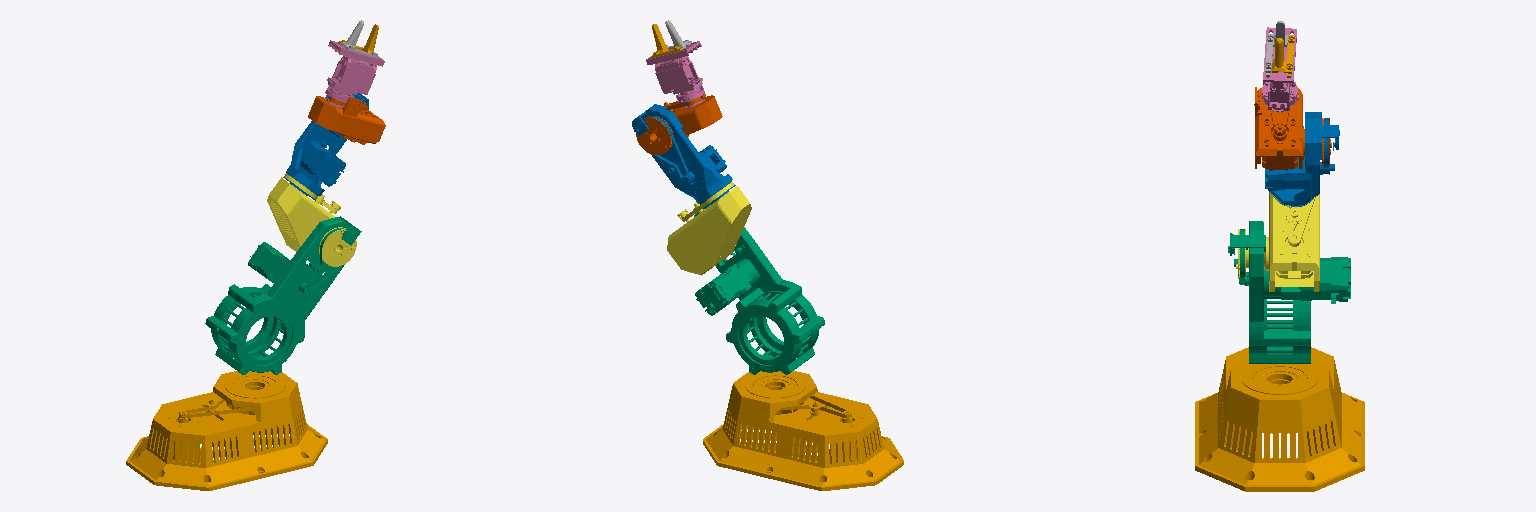
The robot description file, URDF, robot "arm":
<?xml version="1.0"?>
<!--
  arm: 6-axis desktop arm - base yaw, shoulder pitch (21:1 cycloidal drive), elbow pitch (GT2 belt),
  FOREARM ROLL (GT2 belt in the roll frame at the elbow, cad/assemblies/forearm_roll_drive.py), wrist pitch (GT2
  belt) and WRIST ROLL (GT2 belt from the NEMA17 pancake on the wrist_pitch axis, cad/assemblies/wrist_roll_drive.py)
  - + a rack & pinion parallel gripper on an MG996R (cad/assemblies/gripper.py). Six joints are driven by
  NEMA 17 + MKS SERVO42D kits: the base_yaw / elbow_pitch / wrist_pitch motors are NEMA 17s on the
  mounts the links carry (cad/lib/mounts.py: the 48 mm nema17_48mm#1 under the base, nema17_40mm#2..3 on
  the links, + mks_servo42d#1..3, in base_link / upper_arm_link / forearm_link), the shoulder_pitch one
  the cycloidal drive's own 48 mm motor + board, the forearm_roll one the roll drive's own 40 mm motor
  + board (in elbow_link), the wrist_roll one the wrist roll drive's pancake + board (in wrist_pitch_link);
  which CAN id (software/control/src/robotic_arm/config.py JOINTS) drives which joint is unconfirmed.

  SOURCE OF TRUTH: this file. Every number is derived from the CAD by cad/tools/robot/derive.py
  (cad/robot/frames.py = link partition + joint frames; cad/reference/placements.json = the
  SolidWorks capture) and verified with `./cadtool python tools/robot/derive.py`, check mode
  (tests/test_robot.py runs it). Regenerate meshes with cad/tools/robot/export_link_meshes.py.

  FRAMES (REP-103): base_link on the base's bottom face at the base_yaw axis, Z up, X forward
  (the direction the arm extends). Every joint frame has Z on the joint axis and X along the
  child link's long direction at the capture pose. A child link's frame IS its joint frame at
  the SolidWorks capture pose: ALL JOINTS ARE 0 AT THE CAPTURE POSE and every mesh origin is
  identity. In that pose the arm stands square to the base: the base is turned to meet j1_coupler
  flat to flat (cad/lib/datum.py BASE_TURN_DEG, base_link's frame with it), so the pitch axes lie
  along base Y at zero; the shoulder_pitch, elbow_pitch and wrist_pitch axes are
  parallel (SlabParams.elbow_x and -WebParams.wrist_x apart in the pitch plane, offset along the axis as the
  joint origins below put them: cad/robot/frames.py). The capture pose is the design's: the forearm and
  everything beyond it are turned half a turn about the forearm_roll axis from the SolidWorks capture
  (cad/lib/placements.py TURNS: the wrist_pitch motor on the upper arm's side), so at zero the wrist and the
  gripper are rolled 180 deg from the capture and wrist_pitch's axis is the capture's -N.
  forearm_roll's Z runs along the forearm (the pitch plane's in-plane direction) through the WRIST
  CENTRE - on the wrist_pitch axis 17 mm back from the wrist_pitch origin, where the SolidWorks
  wrist_roll axis met it; its X is the pitch-axis direction (its child's long direction IS the axis).
  wrist_roll no longer meets it: the wrist roll drive's pancake sits on the wrist_pitch axis and belts
  to the roll axis WRIST_ROLL_OFFSET across it, WRIST_ROLL_AXIS_H over the wrist plate - a wrist
  offset, the last three axes are NOT concurrent (an inverse kinematics must be numeric). It does NOT cross the elbow axis: the
  roll motor sits on the elbow axis and the roll housing ELBOW_ROLL_OFFSET (the drive's centre
  distance: the stock belt round its tensioner) above it, so forearm_roll's origin sits that far across elbow_link's frame (its -Y) - an elbow
  offset. elbow_link is the elbow's driven side (the 90T pulley carrying the roll drive's stator, the
  frame and the elbow flange under it, the elbow coupler's place), forearm_link the roll drive's rotor (the pulley + the shaft, the clamp's screws + nuts) + the forearm.

  UNITS: metres, kilograms, radians. MESHES: meshes/<link>.stl in millimetres (scale 0.001),
  one per link in the link frame (visual and collision reuse them; simplified collision
  primitives are a TODO). INERTIALS: OCP BRepGProp on the CAD solids, printed parts at PETG
  1.27 g/cm3, purchased parts at their datasheet/estimated mass (cad/lib/params.py).

  PLACEHOLDERS [ESTIMATE] (cad/lib/params.py): the base_yaw limit and the shoulder's lower limit, every
  effort and velocity value; the positive-motion sign of every axis
  (cad/robot/frames.py; confirm with viewer sweeps). The other limits are [DESIGN]
  (cad/tests/test_sweeps.py).
  ASSUMPTIONS: j1_coupler (the holder) turns on the base and carries the cycloidal drive's
  stator (the held carrier - motor plate, output hub + pins -, the motor, the gear train) in its
  yoke - together shoulder_link; the drive's rotor (the turning shell: shell ring, ring pins,
  housing bolts + nuts, both 6814s) is bolted to j1_link - together upper_arm_link - so the drive IS the
  shoulder_pitch joint (cad/docs/cycloidal_drive.md, cad/assemblies/cycloidal_drive.py BODIES);
  the GT2 90T pulleys + their flanges (elbow_flange, wrist_flange) are bolted to the driven links (elbow_link at elbow_pitch,
  wrist_pitch_link at wrist_pitch; the base_yaw 120T to j1_coupler's stub end inside the base - shoulder_link); the wrist
  roll drive's stator (the pancake + its board, its 20T, the belt, its 6806 pair) rides with wrist_link (its frame) in
  wrist_pitch_link, its rotor (pulley + shaft) with the gripper in wrist_roll_link; each belt joint's 6806-2RS bearing pair rides with its housing
  (base_link, upper_arm_link, forearm_link; cad/lib/mounts.py), the base_yaw thrust bearing's lower washer and needle
  cage with base_link, its upper washer with j1_coupler (shoulder_link); the gripper's pinion (it turns, driving the racks)
  is merged into wrist_roll_link; each jaw link is a rack and its jaw; jaw_b mirrors jaw_a (mimic, multiplier -1);
  positive jaw_a = opening; zero = the racks centred, the jaws 23 mm apart, JAW_TRAVEL_MM [DESIGN] each way.
  UNCONFIRMED: which CAN id (software/control/src/robotic_arm/config.py JOINTS: 1-6 in chain order, the ids to set)
  drives which joint, and which way each joint's encoder counts - the motors are placed (cad/lib/mounts.py) but not
  mapped; the shoulder_pitch motor is the drive's own NEMA 17 at 21:1 (cad/lib/params.py CYCLOIDAL_RATIO; config.py's
  gear_ratio 1 / 21, its ratios, limits and home angles checked against the CAD by cad/tests/test_robot.py). The
  belt motors' masses (280 g) and boards (35 g) are estimates; the wrist_pitch motor sits where the stock
  wrist belt puts it (J2_MOTOR_SLIDE_X, WRIST_BELT_LENGTH); FOREARM_ROLL_LIMIT_DEG and
  WRIST_ROLL_LIMIT_DEG are software limits (no printed hard stop on either roll). elbow_pitch's upper limit is the arm's
  own (the forearm's board and the wrist body against the base), not the gripper's: folded past ELBOW_GRIPPER_FREE_DEG, the wrist bent down or
  the forearm rolled can put the gripper into the upper arm - a planner must check those poses.
  The jaws (the MG996R) are not on the CAN bus: config.py's JOINTS are the six revolute joints.
-->
<robot name="arm">
  <link name="base_link">
    <inertial>
      <origin xyz="-0.062764 0.00024 0.044285" rpy="0 0 0" />
      <mass value="1.494635" />
      <inertia ixx="4.375288e-03" ixy="-1.128135e-05" ixz="-7.557478e-04" iyy="9.144560e-03" iyz="-7.012048e-06" izz="1.054270e-02" />
    </inertial>
    <visual>
      <origin xyz="0 0 0" rpy="0 0 0" />
      <geometry>
        <mesh filename="meshes/base_link.stl" scale="0.001 0.001 0.001" />
      </geometry>
    </visual>
    <collision>
      <origin xyz="0 0 0" rpy="0 0 0" />
      <geometry>
        <mesh filename="meshes/base_link.stl" scale="0.001 0.001 0.001" />
      </geometry>
    </collision>
  </link>
  <link name="shoulder_link">
    <inertial>
      <origin xyz="0.000216 0.011453 -0.022287" rpy="0 0 0" />
      <mass value="1.587804" />
      <inertia ixx="4.501046e-03" ixy="-2.641876e-06" ixz="-2.711340e-06" iyy="3.256707e-03" iyz="-3.937300e-04" izz="2.708837e-03" />
    </inertial>
    <visual>
      <origin xyz="0 0 0" rpy="0 0 0" />
      <geometry>
        <mesh filename="meshes/shoulder_link.stl" scale="0.001 0.001 0.001" />
      </geometry>
    </visual>
    <collision>
      <origin xyz="0 0 0" rpy="0 0 0" />
      <geometry>
        <mesh filename="meshes/shoulder_link.stl" scale="0.001 0.001 0.001" />
      </geometry>
    </collision>
  </link>
  <link name="upper_arm_link">
    <inertial>
      <origin xyz="0.065361 -0.00006 0.047663" rpy="0 0 0" />
      <mass value="1.611237" />
      <inertia ixx="2.572337e-03" ixy="1.276919e-06" ixz="8.641956e-05" iyy="7.224926e-03" iyz="-5.664940e-06" izz="6.499254e-03" />
    </inertial>
    <visual>
      <origin xyz="0 0 0" rpy="0 0 0" />
      <geometry>
        <mesh filename="meshes/upper_arm_link.stl" scale="0.001 0.001 0.001" />
      </geometry>
    </visual>
    <collision>
      <origin xyz="0 0 0" rpy="0 0 0" />
      <geometry>
        <mesh filename="meshes/upper_arm_link.stl" scale="0.001 0.001 0.001" />
      </geometry>
    </collision>
  </link>
  <link name="elbow_link">
    <inertial>
      <origin xyz="0.005327 -0.01766 0.015534" rpy="0 0 0" />
      <mass value="0.7657" />
      <inertia ixx="1.118354e-03" ixy="1.197498e-04" ixz="-1.850084e-05" iyy="6.166911e-04" iyz="5.973097e-05" izz="1.042279e-03" />
    </inertial>
    <visual>
      <origin xyz="0 0 0" rpy="0 0 0" />
      <geometry>
        <mesh filename="meshes/elbow_link.stl" scale="0.001 0.001 0.001" />
      </geometry>
    </visual>
    <collision>
      <origin xyz="0 0 0" rpy="0 0 0" />
      <geometry>
        <mesh filename="meshes/elbow_link.stl" scale="0.001 0.001 0.001" />
      </geometry>
    </collision>
  </link>
  <link name="forearm_link">
    <inertial>
      <origin xyz="0.006301 -0.000058 0.092777" rpy="0 0 0" />
      <mass value="0.652733" />
      <inertia ixx="1.392301e-03" ixy="3.633583e-06" ixz="-2.261003e-04" iyy="1.458101e-03" iyz="2.206402e-06" izz="3.261206e-04" />
    </inertial>
    <visual>
      <origin xyz="0 0 0" rpy="0 0 0" />
      <geometry>
        <mesh filename="meshes/forearm_link.stl" scale="0.001 0.001 0.001" />
      </geometry>
    </visual>
    <collision>
      <origin xyz="0 0 0" rpy="0 0 0" />
      <geometry>
        <mesh filename="meshes/forearm_link.stl" scale="0.001 0.001 0.001" />
      </geometry>
    </collision>
  </link>
  <link name="wrist_pitch_link">
    <inertial>
      <origin xyz="0.001197 0.012973 0.007721" rpy="0 0 0" />
      <mass value="0.45076" />
      <inertia ixx="5.081675e-04" ixy="-2.674791e-05" ixz="-6.841652e-06" iyy="2.731091e-04" iyz="-4.289335e-05" izz="3.499751e-04" />
    </inertial>
    <visual>
      <origin xyz="0 0 0" rpy="0 0 0" />
      <geometry>
        <mesh filename="meshes/wrist_pitch_link.stl" scale="0.001 0.001 0.001" />
      </geometry>
    </visual>
    <collision>
      <origin xyz="0 0 0" rpy="0 0 0" />
      <geometry>
        <mesh filename="meshes/wrist_pitch_link.stl" scale="0.001 0.001 0.001" />
      </geometry>
    </collision>
  </link>
  <link name="wrist_roll_link">
    <inertial>
      <origin xyz="0.004695 0.000053 0.026924" rpy="0 0 0" />
      <mass value="0.15228" />
      <inertia ixx="1.515983e-04" ixy="-8.186684e-09" ixz="-1.124623e-05" iyy="1.717370e-04" iyz="1.847556e-07" izz="4.177461e-05" />
    </inertial>
    <visual>
      <origin xyz="0 0 0" rpy="0 0 0" />
      <geometry>
        <mesh filename="meshes/wrist_roll_link.stl" scale="0.001 0.001 0.001" />
      </geometry>
    </visual>
    <collision>
      <origin xyz="0 0 0" rpy="0 0 0" />
      <geometry>
        <mesh filename="meshes/wrist_roll_link.stl" scale="0.001 0.001 0.001" />
      </geometry>
    </collision>
  </link>
  <link name="jaw_a_link">
    <inertial>
      <origin xyz="0.016949 -0.005644 0.009049" rpy="0 0 0" />
      <mass value="0.010942" />
      <inertia ixx="2.710300e-06" ixy="-6.545706e-07" ixz="-8.155029e-07" iyy="4.370291e-06" iyz="-5.523855e-07" izz="2.622026e-06" />
    </inertial>
    <visual>
      <origin xyz="0 0 0" rpy="0 0 0" />
      <geometry>
        <mesh filename="meshes/jaw_a_link.stl" scale="0.001 0.001 0.001" />
      </geometry>
    </visual>
    <collision>
      <origin xyz="0 0 0" rpy="0 0 0" />
      <geometry>
        <mesh filename="meshes/jaw_a_link.stl" scale="0.001 0.001 0.001" />
      </geometry>
    </collision>
  </link>
  <link name="jaw_b_link">
    <inertial>
      <origin xyz="0.016949 0.005644 -0.009049" rpy="0 0 0" />
      <mass value="0.010942" />
      <inertia ixx="2.710300e-06" ixy="6.545706e-07" ixz="8.155028e-07" iyy="4.370291e-06" iyz="-5.523856e-07" izz="2.622026e-06" />
    </inertial>
    <visual>
      <origin xyz="0 0 0" rpy="0 0 0" />
      <geometry>
        <mesh filename="meshes/jaw_b_link.stl" scale="0.001 0.001 0.001" />
      </geometry>
    </visual>
    <collision>
      <origin xyz="0 0 0" rpy="0 0 0" />
      <geometry>
        <mesh filename="meshes/jaw_b_link.stl" scale="0.001 0.001 0.001" />
      </geometry>
    </collision>
  </link>
  <link name="tool0" />
  <joint name="base_yaw" type="revolute">
    <parent link="base_link" />
    <child link="shoulder_link" />
    <origin xyz="0 0 0.19051" rpy="0 0 0" />
    <axis xyz="0 0 1" />
    <limit lower="-3.054326" upper="3.054326" effort="5" velocity="1" />
  </joint>
  <joint name="shoulder_pitch" type="revolute">
    <parent link="shoulder_link" />
    <child link="upper_arm_link" />
    <origin xyz="0.000186 -0.0425 0" rpy="-1.570796 -0.830504 0.000003" />
    <axis xyz="0 0 1" />
    <limit lower="-2.094395" upper="1.169371" effort="5" velocity="1" />
  </joint>
  <joint name="elbow_pitch" type="revolute">
    <parent link="upper_arm_link" />
    <child link="elbow_link" />
    <origin xyz="0.170004 0 0.039499" rpy="0 0 0.010227" />
    <axis xyz="0 0 1" />
    <limit lower="-0.820305" upper="2.513274" effort="5" velocity="1" />
  </joint>
  <joint name="forearm_roll" type="revolute">
    <parent link="elbow_link" />
    <child link="forearm_link" />
    <origin xyz="0.000001 -0.074 0.02" rpy="3.141593 -1.570795 0" />
    <axis xyz="0 0 1" />
    <limit lower="-2.897247" upper="2.897247" effort="5" velocity="1" />
  </joint>
  <joint name="wrist_pitch" type="revolute">
    <parent link="forearm_link" />
    <child link="wrist_pitch_link" />
    <origin xyz="-0.003997 -0.000007 0.165" rpy="-1.570808 -1.271748 1.570808" />
    <axis xyz="0 0 1" />
    <limit lower="-2.617994" upper="0.663225" effort="5" velocity="1" />
  </joint>
  <joint name="wrist_roll" type="revolute">
    <parent link="wrist_pitch_link" />
    <child link="wrist_roll_link" />
    <origin xyz="0.026448 0.048588 0.013002" rpy="-1.570799 -0.055538 -1.570796" />
    <axis xyz="0 0 1" />
    <limit lower="-2.897247" upper="2.897247" effort="1" velocity="2" />
  </joint>
  <joint name="jaw_a" type="prismatic">
    <parent link="wrist_roll_link" />
    <child link="jaw_a_link" />
    <origin xyz="0 0 0.06835" rpy="0 -1.570796 0" />
    <axis xyz="0 0 1" />
    <limit lower="-0.0105" upper="0.0105" effort="20" velocity="0.05" />
  </joint>
  <joint name="jaw_b" type="prismatic">
    <parent link="wrist_roll_link" />
    <child link="jaw_b_link" />
    <origin xyz="0 0 0.06835" rpy="0 -1.570796 0" />
    <axis xyz="0 0 1" />
    <limit lower="-0.0105" upper="0.0105" effort="20" velocity="0.05" />
    <mimic joint="jaw_a" multiplier="-1" offset="0" />
  </joint>
  <joint name="tool0_joint" type="fixed">
    <parent link="wrist_roll_link" />
    <child link="tool0" />
    <origin xyz="0 0 0.12365" rpy="0 0 0" />
  </joint>
</robot>

--- What the picture shows (computed from the rendered views, not written in the file) ---
The picture shows the robot from 3 angles, left to right: view 1: azimuth 30°, elevation 25°; view 2: azimuth 150°, elevation 25°; view 3: azimuth 270°, elevation 25°; orthographic projection.
Robot: arm — 10 links, 9 joints (6 revolute, 2 prismatic, 1 fixed); root link base_link; default pose: all joints at 0.
Visible links, largest first — view 1: base_link, upper_arm_link, elbow_link, forearm_link, wrist_pitch_link, wrist_roll_link; view 2: base_link, upper_arm_link, elbow_link, forearm_link, wrist_pitch_link, wrist_roll_link; view 3: base_link, upper_arm_link, elbow_link, forearm_link, wrist_pitch_link, wrist_roll_link, jaw_b_link.
Boxes of the visible links, x1,y1,x2,y2 form: base_link: (126,371,327,490); upper_arm_link: (205,216,361,374); elbow_link: (267,173,356,266); forearm_link: (283,93,368,200); wrist_pitch_link: (308,95,385,144); wrist_roll_link: (325,40,384,107); base_link: (703,371,903,490); upper_arm_link: (694,204,824,374); elbow_link: (667,182,751,275); forearm_link: (632,104,735,208); wrist_pitch_link: (636,93,722,154); wrist_roll_link: (646,41,704,108); base_link: (1195,347,1364,491); upper_arm_link: (1228,221,1350,363); elbow_link: (1236,192,1319,291); forearm_link: (1265,112,1339,206); wrist_pitch_link: (1254,87,1331,170); wrist_roll_link: (1262,27,1298,111); jaw_b_link: (1272,35,1294,77).
Bounding box of the posed robot: 0.4065 × 0.2 × 0.6497 m (x, y, z).
Meshes: 9 distinct files referenced, 8 mesh visuals loaded (8 binary STL); not drawn: 1 (file found but could not be loaded).
